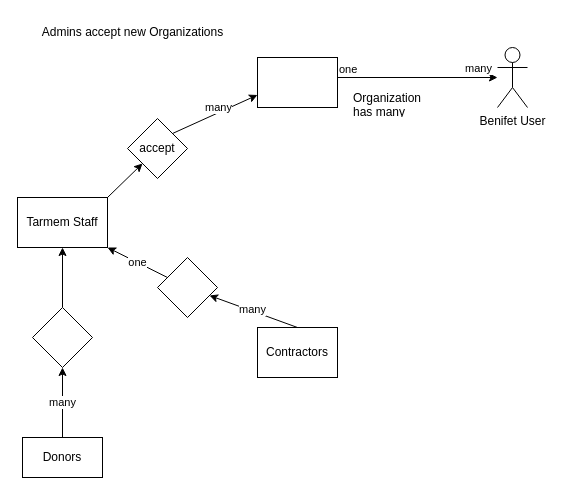
Some shapes in this 563 by 495 pixel diagram are drawn without their labels. The shapes that lost their labels are listed below. From the top down, each one's box as (x1, y1, x2, y2) in pixels, then its label:
(256, 56, 338, 108): organizations
(156, 256, 218, 318): Works For
(32, 306, 92, 368): Support in
